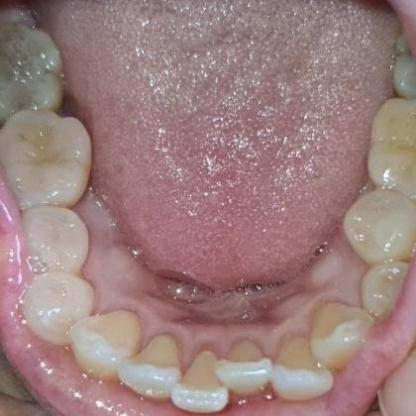Crowding: (272, 299, 376, 402), (176, 344, 274, 410)
